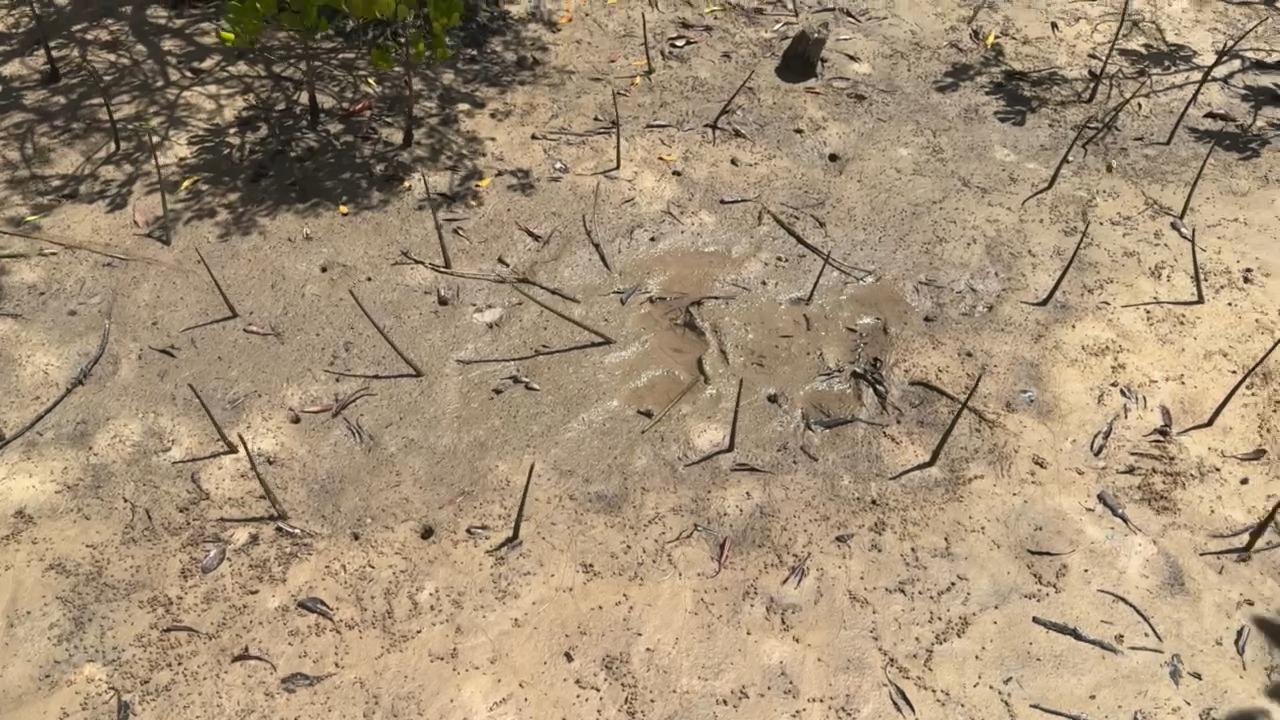Tree: (348, 0, 465, 149), (214, 0, 348, 123), (495, 270, 617, 343), (348, 288, 424, 378), (1166, 40, 1227, 146), (1081, 77, 1151, 147), (928, 372, 981, 464), (1199, 15, 1271, 79), (236, 431, 287, 519), (1179, 127, 1226, 220), (1086, 0, 1128, 104), (1042, 219, 1091, 305), (1047, 112, 1101, 187), (186, 383, 239, 453), (420, 168, 455, 271), (194, 246, 237, 317), (148, 131, 173, 245), (87, 71, 121, 152), (28, 0, 58, 80), (712, 70, 756, 123), (1242, 500, 1280, 552), (511, 461, 536, 539), (1246, 337, 1280, 375), (727, 376, 743, 451), (1192, 227, 1205, 304), (611, 89, 621, 169), (641, 10, 653, 75)
